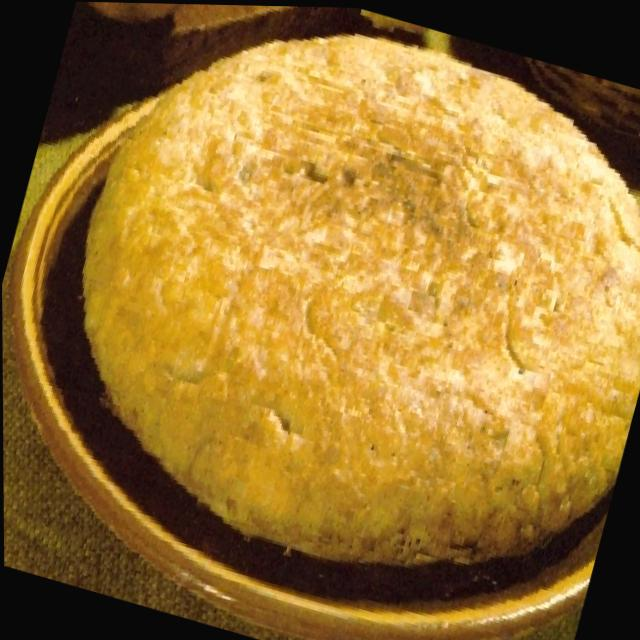面包点心: (25, 0, 640, 620)
